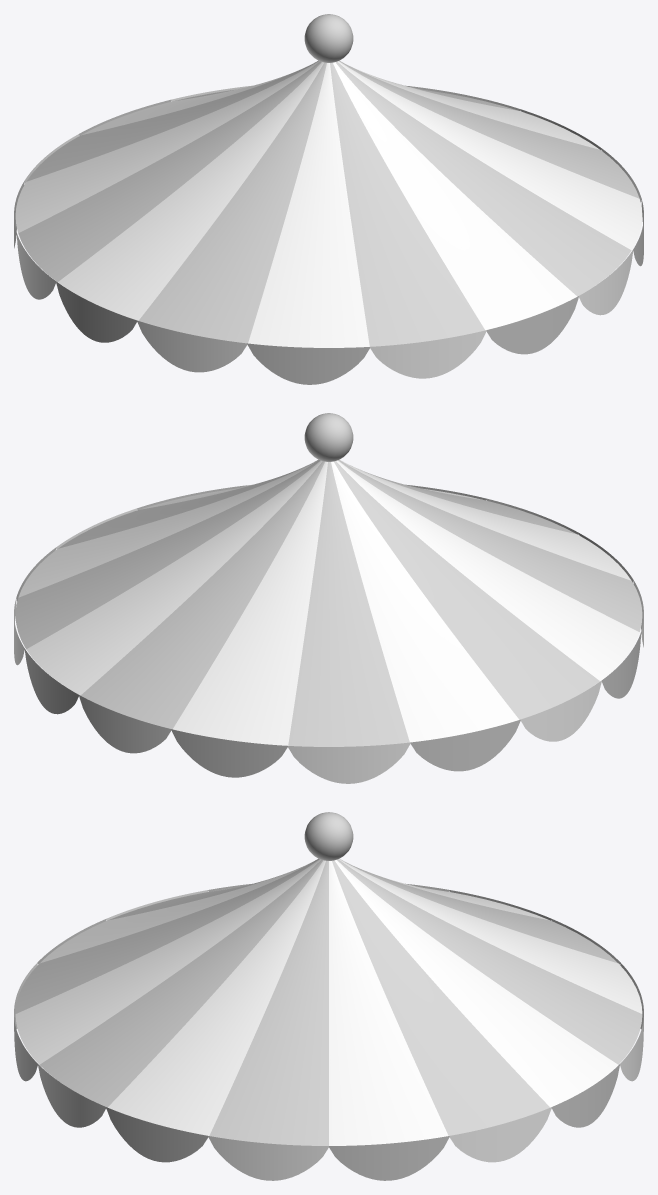
File: techo-pelotero.glb
3 renders of one model, top to bottom at view 1: azimuth 30°, elevation 25°; view 2: azimuth 150°, elevation 25°; view 3: azimuth 270°, elevation 25°, orthographic.
Parts seen in each view (by area): view 1: Techo pelotero; view 2: Techo pelotero; view 3: Techo pelotero.
Boxes of the visible parts, <box> form: Techo pelotero: <box>14,14,643,384</box>; Techo pelotero: <box>14,413,643,783</box>; Techo pelotero: <box>14,812,643,1180</box>.
Size of the model in its own units: 1 by 0.4129 by 1.
Materials: 1 (1 with a texture image).
